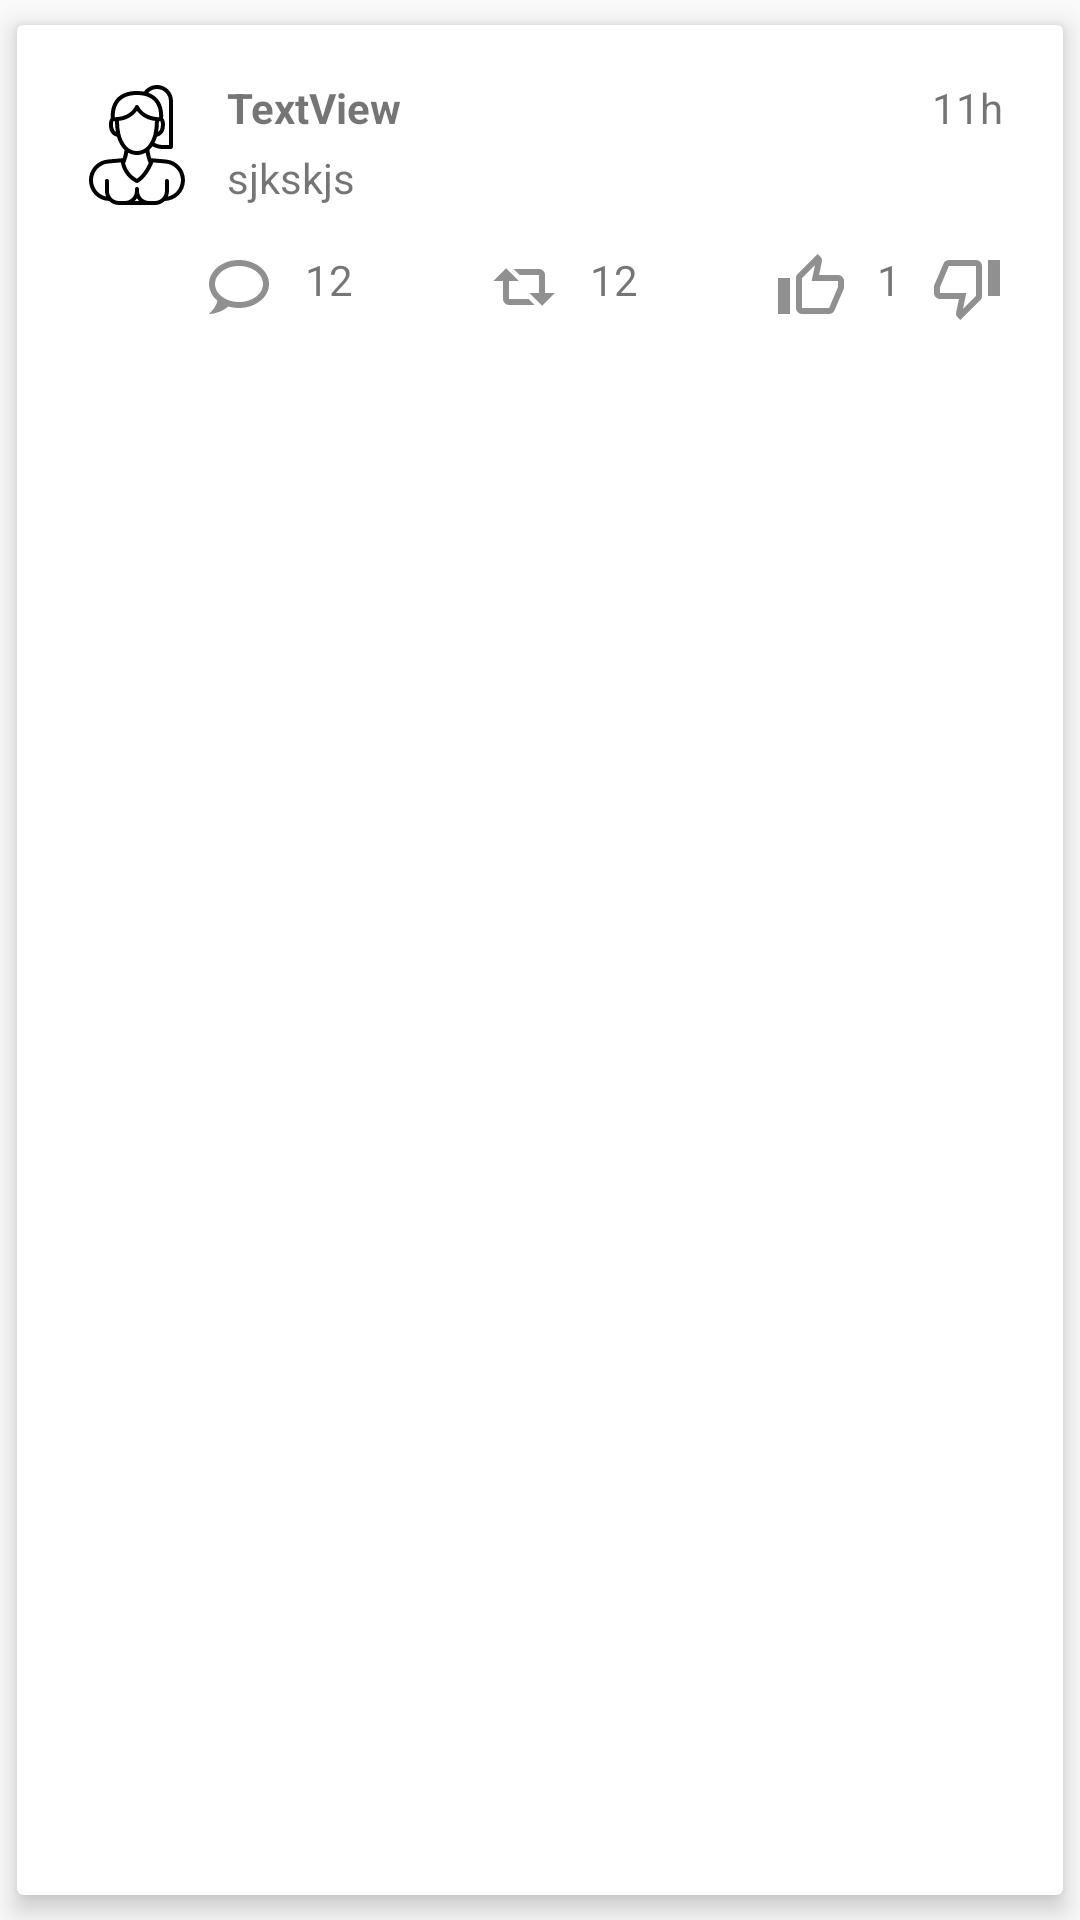

Icons on this 1080 × 1920 Android screen, each with the point to tap as point (x, y):
chat: point (239, 287)
female: point (137, 145)
repost: point (524, 287)
thumbs down: point (967, 290)
thumbs up: point (811, 284)
